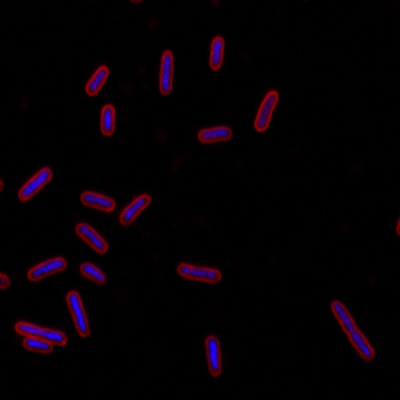Rifampicin: (328, 297, 377, 363), (13, 318, 67, 348), (251, 87, 281, 133), (17, 166, 54, 203), (25, 253, 70, 283), (71, 222, 110, 256), (65, 289, 92, 338), (117, 192, 153, 227), (175, 261, 223, 284), (79, 188, 118, 213), (82, 63, 110, 97), (203, 334, 224, 379), (157, 48, 175, 95), (207, 34, 227, 71), (196, 124, 233, 144), (78, 261, 107, 286), (21, 335, 54, 356), (98, 103, 117, 137)
